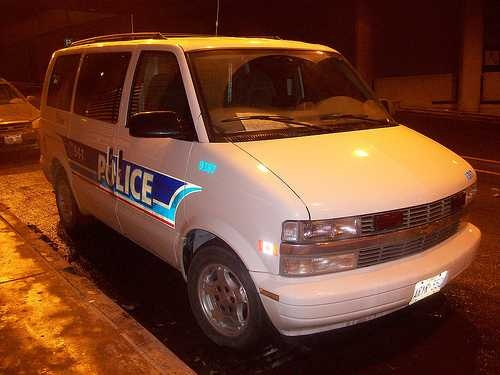Police Car: (45, 15, 500, 318)
